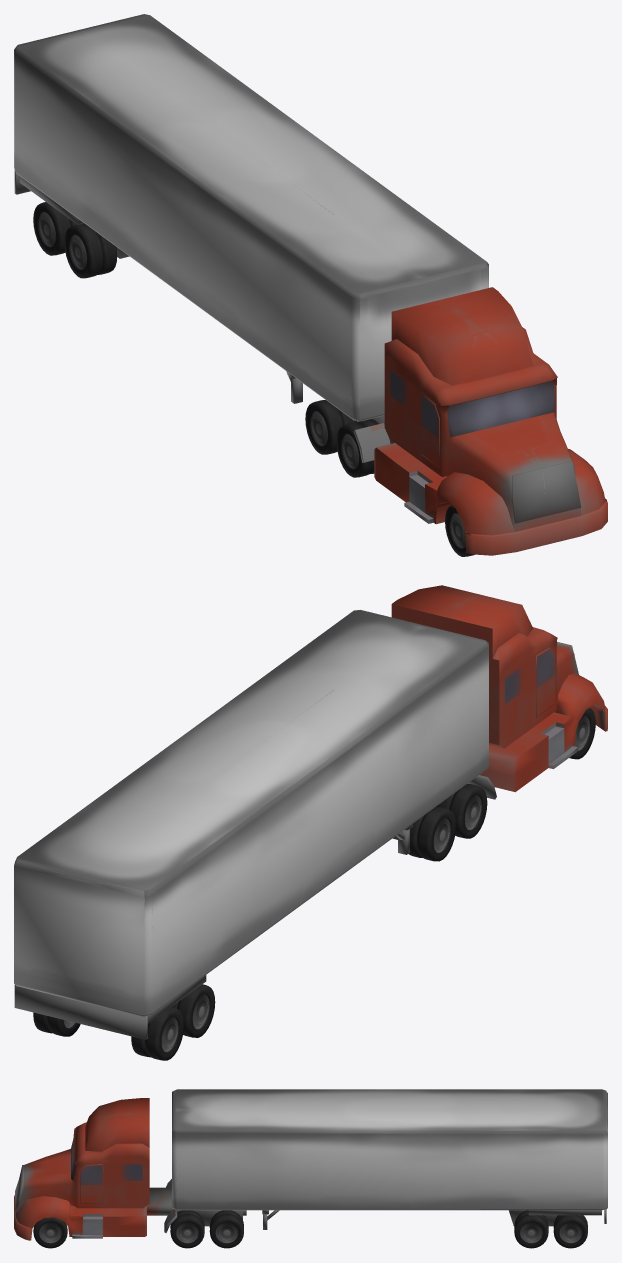
File: DryBedTruck.fbx
The picture shows the model from 3 angles, top to bottom: view 1: azimuth 30°, elevation 25°; view 2: azimuth 150°, elevation 25°; view 3: azimuth 270°, elevation 25°; orthographic projection. The views are drawn at different scales.
Parts seen in each view (by area): view 1: Truck; view 2: Truck; view 3: Truck.
Boxes of the visible parts, x1,y1,x2,y2 form: Truck: [14, 14, 607, 556]; Truck: [14, 585, 607, 1060]; Truck: [14, 1089, 607, 1248].
Size of the model in its own units: 167 by 203 by 912.
Materials: 1 (1 with a texture image).
